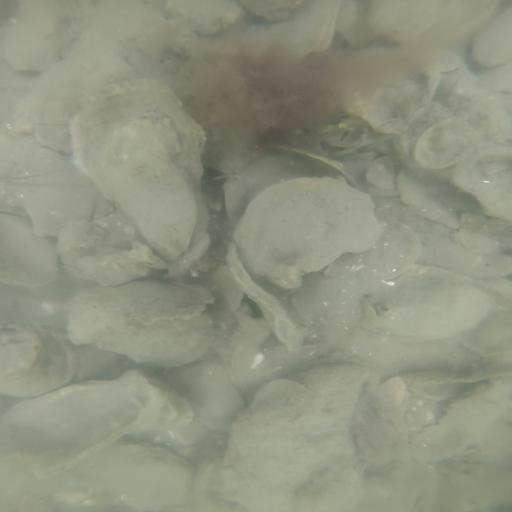Oyster-Closed: (220, 366, 374, 512), (232, 175, 382, 291), (1, 372, 177, 467), (71, 79, 207, 200), (101, 112, 199, 262), (317, 43, 447, 139), (66, 307, 219, 368), (406, 383, 512, 464), (80, 442, 192, 512), (369, 281, 491, 344), (77, 280, 214, 326), (60, 223, 153, 285), (167, 360, 245, 432), (450, 146, 510, 225), (397, 169, 465, 233), (410, 115, 482, 174), (162, 1, 245, 39), (306, 363, 366, 399), (256, 380, 308, 420), (478, 11, 512, 65)
Oyster-Open: (222, 246, 307, 352), (1, 319, 81, 401), (256, 137, 367, 194), (402, 364, 512, 404), (313, 116, 376, 149), (233, 1, 304, 24)
